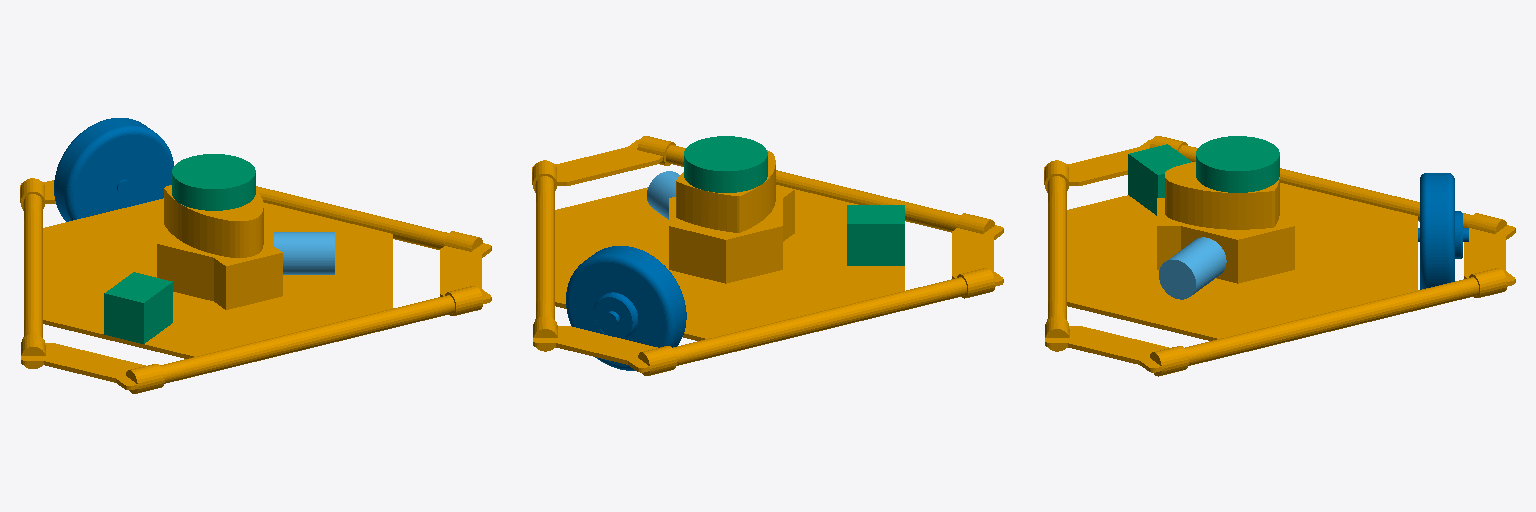
URDF robot description (Digital):
<?xml version='1.0' encoding='utf-8'?>
<robot name="Digital">
    <!-- BASE FRAMES AND LINKS -->

    <!-- Base link -->
    <link name="BaseFrame">
        <inertial>
            <origin xyz="6.220516227138173e-07 0.015720460645053943 0.003771593011300329" rpy="0.0 0.0 0.0" />
            <mass value="8.741348768419334" />
            <inertia ixx="0.05878328648875511" iyy="0.10720832008945891" izz="0.05729448458823833" ixy="8.556860355420218e-08" iyz="-0.0006208696444277885" ixz="-3.941352884719564e-06" />
        </inertial>
        <visual name="BaseFrame_visual">
            <origin xyz="0.0 0.0 0.0" rpy="0.0 0.0 0.0" />
            <geometry>
                <mesh filename="meshes/BaseFrame.stl" scale="0.001 0.001 0.001" />
            </geometry>
        </visual>
        <collision name="BaseFrame_collision">
            <origin xyz="0.0 0.0 0.0" rpy="0.0 0.0 0.0" />
            <geometry>
                <mesh filename="meshes/BaseFrame.stl" scale="0.001 0.001 0.001" />
            </geometry>
        </collision>
    </link>
    
    <!-- WHEEL SETS -->
    <!-- Wheel 1 -->
    <link name="Wheel1">
        <inertial>
            <origin xyz="-7.182858308141247e-10 1.5543122344752193e-17 0.017147542624793656" rpy="0.0 5.551115123125783e-17 0.0" />
            <mass value="2.006420398400055" />
            <inertia ixx="0.001469647893885064" iyy="0.001469647893808726" izz="0.0026279102091307425" ixy="1.6185190373569832e-18" iyz="1.0686337297429578e-18" ixz="4.96564594998361e-17" />
        </inertial>
        <visual name="Wheel1_visual">
            <origin xyz="-7.18276149792724e-10 0.01905 -0.15028798124409087" rpy="3.141592653589793 1.1102230246251568e-16 0.0" />
            <geometry>
                <mesh filename="meshes/Wheel1.stl" scale="0.001 0.001 0.001" />
            </geometry>
        </visual>
        <collision name="Wheel1_collision">
            <origin xyz="-7.18276149792724e-10 0.01905 -0.15028798124409087" rpy="3.141592653589793 1.1102230246251568e-16 0.0" />
            <geometry>
                <mesh filename="meshes/Wheel1.stl" scale="0.001 0.001 0.001" />
            </geometry>
        </collision>
    </link>
    <link name="Gearbox1">
        <inertial>
            <origin xyz="7.182758210433349e-10 0.01905 -0.024499996718548064" rpy="0.0 -0.0 0.0" />
            <mass value="0.5583617865000003" />
            <inertia ixx="0.00017926251685731348" iyy="0.00017926251685731337" izz="0.00013508725881687786" ixy="-2.168404344971005e-19" iyz="3.755786496842899e-19" ixz="-3.5236570605778894e-19" />
        </inertial>
        <visual name="Gearbox1_visual">
            <origin xyz="7.182761496693502e-10 0.0 -0.15028798124409085" rpy="0.0 1.047197551196598 0.0" />
            <geometry>
                <mesh filename="meshes/Gearbox1.stl" scale="0.001 0.001 0.001" />
            </geometry>
        </visual>
        <collision name="Gearbox1_collision">
            <origin xyz="7.182761496693502e-10 0.0 -0.15028798124409085" rpy="0.0 1.047197551196598 0.0" />
            <geometry>
                <mesh filename="meshes/Gearbox1.stl" scale="0.001 0.001 0.001" />
            </geometry>
        </collision>
    </link>
    <link name="Motor1">
        <inertial>
            <origin xyz="-3.110994586386084e-09 -6.661338147750939e-18 0.025500000862858557" rpy="0.0 -5.551115123125784e-17 0.0" />
            <mass value="0.4075066645121547" />
            <inertia ixx="0.000121335109358496" iyy="0.00012133510935849337" izz="6.60160796509679e-05" ixy="3.2421776383058307e-20" iyz="2.691044877785578e-19" ixz="-2.371692252312041e-19" />
        </inertial>
        <visual name="Motor1_visual">
            <origin xyz="-3.110994901689423e-09 -0.01905 0.10128798538840127" rpy="3.141592653589793 -1.0471975511965979 3.141592653589793" />
            <geometry>
                <mesh filename="meshes/Motor1.stl" scale="0.001 0.001 0.001" />
            </geometry>
        </visual>
        <collision name="Motor1_collision">
            <origin xyz="-3.110994901689423e-09 -0.01905 0.10128798538840127" rpy="3.141592653589793 -1.0471975511965979 3.141592653589793" />
            <geometry>
                <mesh filename="meshes/Motor1.stl" scale="0.001 0.001 0.001" />
            </geometry>
        </collision>
    </link>
    
    <!-- Wheel 2 -->
    <link name="Wheel2">
        <inertial>
            <origin xyz="0.014850208602966947 1.5543122344752193e-17 -0.008573771934433863" rpy="0.0 5.551115123125783e-17 0.0" />
            <mass value="2.006420398400055" />
            <inertia ixx="0.002338344630319266" iyy="0.001469647893808726" izz="0.0017592134726965368" ixy="-2.9559169481946623e-21" iyz="-1.739843274314035e-18" ixz="-0.0005015422946244938" />
        </inertial>
        <visual name="Wheel2_visual">
            <origin xyz="-0.13015320856344764 0.01905 0.07514398999999997" rpy="0.0 1.0471975511965979 3.141592653589793" />
            <geometry>
                <mesh filename="meshes/Wheel2.stl" scale="0.001 0.001 0.001" />
            </geometry>
        </visual>
        <collision name="Wheel2_collision">
            <origin xyz="-0.13015320856344764 0.01905 0.07514398999999997" rpy="0.0 1.0471975511965979 3.141592653589793" />
            <geometry>
                <mesh filename="meshes/Wheel2.stl" scale="0.001 0.001 0.001" />
            </geometry>
        </collision>
    </link>
    <link name="Gearbox2">
        <inertial>
            <origin xyz="-4.174438572590589e-16 0.01905 -0.024499995474457244" rpy="0.0 -0.0 0.0" />
            <mass value="0.5583617865000003" />
            <inertia ixx="0.00017926251685731337" iyy="0.0001792625168573151" izz="0.00013508725881687745" ixy="-8.818923851428391e-20" iyz="2.168404344971009e-19" ixz="-4.205051283485158e-19" />
        </inertial>
        <visual name="Gearbox2_visual">
            <origin xyz="0.0 0.0 -0.15028798000000002" rpy="0.0 1.0471975511965974 0.0" />
            <geometry>
                <mesh filename="meshes/Gearbox2.stl" scale="0.001 0.001 0.001" />
            </geometry>
        </visual>
        <collision name="Gearbox2_collision">
            <origin xyz="0.0 0.0 -0.15028798000000002" rpy="0.0 1.0471975511965974 0.0" />
            <geometry>
                <mesh filename="meshes/Gearbox2.stl" scale="0.001 0.001 0.001" />
            </geometry>
        </collision>
    </link>
    <link name="Motor2">
        <inertial>
            <origin xyz="-0.022083643877268404 -6.661338147750939e-18 -0.012749997737228309" rpy="0.0 -5.551115123125784e-17 0.0" />
            <mass value="0.4075066645121547" />
            <inertia ixx="7.984583707784952e-05" iyy="0.00012133510935849337" izz="0.00010750535193161393" ixy="-2.86329525777864e-19" iyz="-1.5458401713693968e-19" ixz="-2.395384251971233e-05" />
        </inertial>
        <visual name="Motor2_visual">
            <origin xyz="-0.08771796377801014 -0.01905 -0.05064398999999997" rpy="3.141592653589793 1.047197551196598 3.141592653589793" />
            <geometry>
                <mesh filename="meshes/Motor2.stl" scale="0.001 0.001 0.001" />
            </geometry>
        </visual>
        <collision name="Motor2_collision">
            <origin xyz="-0.08771796377801014 -0.01905 -0.05064398999999997" rpy="3.141592653589793 1.047197551196598 3.141592653589793" />
            <geometry>
                <mesh filename="meshes/Motor2.stl" scale="0.001 0.001 0.001" />
            </geometry>
        </collision>
    </link>
    
    <!-- Wheel 3 -->
    <link name="Wheel3">
        <inertial>
            <origin xyz="-0.014850207884681126 1.7763568394002505e-17 -0.008573770690359766" rpy="0.0 -5.5511151231257815e-17 0.0" />
            <mass value="2.006420398400055" />
            <inertia ixx="0.0023383446303193644" iyy="0.0014696478938087051" izz="0.0017592134726964349" ixy="-1.0686337297429578e-18" iyz="1.618519037356983e-18" ixz="0.0005015422946244375" />
        </inertial>
        <visual name="Wheel3_visual">
            <origin xyz="0.13015320928172383 0.019050000000000004 0.07514399124409088" rpy="0.0 -1.047197551196598 3.141592653589793" />
            <geometry>
                <mesh filename="meshes/Wheel3.stl" scale="0.001 0.001 0.001" />
            </geometry>
        </visual>
        <collision name="Wheel3_collision">
            <origin xyz="0.13015320928172383 0.019050000000000004 0.07514399124409088" rpy="0.0 -1.047197551196598 3.141592653589793" />
            <geometry>
                <mesh filename="meshes/Wheel3.stl" scale="0.001 0.001 0.001" />
            </geometry>
        </collision>
    </link>
    <link name="Gearbox3">
        <inertial>
            <origin xyz="-7.182765937585601e-10 0.01905 -0.02449999671854808" rpy="0.0 -0.0 0.0" />
            <mass value="0.5583617865000003" />
            <inertia ixx="0.00017926251685731535" iyy="0.00017926251685731337" izz="0.00013508725881687818" ixy="-2.671584324357392e-19" iyz="4.0462975933924594e-19" ixz="-8.809142651444724e-19" />
        </inertial>
        <visual name="Gearbox3_visual">
            <origin xyz="-7.182762562507606e-10 0.0 -0.15028798124409087" rpy="0.0 1.0471975511965979 0.0" />
            <geometry>
                <mesh filename="meshes/Gearbox3.stl" scale="0.001 0.001 0.001" />
            </geometry>
        </visual>
        <collision name="Gearbox3_collision">
            <origin xyz="-7.182762562507606e-10 0.0 -0.15028798124409087" rpy="0.0 1.0471975511965979 0.0" />
            <geometry>
                <mesh filename="meshes/Gearbox3.stl" scale="0.001 0.001 0.001" />
            </geometry>
        </collision>
    </link>
    <link name="Motor3">
        <inertial>
            <origin xyz="0.02208364698826296 -6.661338147750939e-18 -0.01275000312563022" rpy="0.0 5.551115123125783e-17 0.0" />
            <mass value="0.4075066645121547" />
            <inertia ixx="7.984583707784998e-05" iyy="0.00012133510935849294" izz="0.00010750535193161376" ixy="2.0231487966962285e-19" iyz="-1.3357921621786973e-19" ixz="2.39538425197127e-05" />
        </inertial>
        <visual name="Motor3_visual">
            <origin xyz="0.08771796688900507 -0.01905 -0.05064399538840131" rpy="0.0 5.5511151231257815e-17 0.0" />
            <geometry>
                <mesh filename="meshes/Motor3.stl" scale="0.001 0.001 0.001" />
            </geometry>
        </visual>
        <collision name="Motor3_collision">
            <origin xyz="0.08771796688900507 -0.01905 -0.05064399538840131" rpy="0.0 5.5511151231257815e-17 0.0" />
            <geometry>
                <mesh filename="meshes/Motor3.stl" scale="0.001 0.001 0.001" />
            </geometry>
        </collision>
    </link>
    
    <!-- SENSOR LINKS -->
    <!-- Original RPLiDAR Link -->
    <link name="RPLiDAR">
        <inertial>
            <origin xyz="-1.2104397782014283e-13 -1.6008232234468676e-13 0.009999999999995212" rpy="0.0 -0.0 0.0" />
            <mass value="0.6042068071017083" />
            <inertia ixx="0.00020517856157828505" iyy="0.00020517856157829546" izz="0.00037007666934979326" ixy="-8.924415590375263e-20" iyz="-3.54477833706305e-18" ixz="-2.6773249932504712e-20" />
        </inertial>
        <visual name="RPLiDAR_visual">
            <origin xyz="0.0 0.0 -0.07440000000000001" rpy="1.5707963267948966 -0.0 0.0" />
            <geometry>
                <mesh filename="meshes/RPLiDAR.stl" scale="0.001 0.001 0.001" />
            </geometry>
        </visual>
        <collision name="RPLiDAR_collision">
            <origin xyz="0.0 0.0 -0.07440000000000001" rpy="1.5707963267948966 -0.0 0.0" />
            <geometry>
                <mesh filename="meshes/RPLiDAR.stl" scale="0.001 0.001 0.001" />
            </geometry>
        </collision>
    </link>
    
    <!-- Laser Link (Required for SLAM - this is needed because your LIDAR node publishes to 'laser' frame) -->
    <link name="laser">
        <!-- A minimal representation to act as the scan source -->
        <visual>
            <geometry>
                <cylinder radius="0.0325" length="0.001"/>
            </geometry>
            <material name="red">
                <color rgba="1 0 0 1"/>
            </material>
        </visual>
    </link>
    
    <!-- IMU Link (BNO055) -->
    <link name="imu_link">
        <visual>
            <geometry>
                <box size="0.020 0.025 0.003"/>
            </geometry>
            <material name="blue">
                <color rgba="0 0 1 1"/>
            </material>
        </visual>
        <collision>
            <geometry>
                <box size="0.020 0.025 0.003"/>
            </geometry>
        </collision>
        <inertial>
            <mass value="0.002"/>
            <inertia ixx="0.00000015" ixy="0" ixz="0" iyy="0.00000015" iyz="0" izz="0.00000015"/>
        </inertial>
    </link>
    
    <!-- Add base_link for compatibility with navigation stack -->
    <link name="base_link"/>
    
    <!-- JOINT DEFINITIONS -->
    <!-- Wheel joints -->
    <joint name="Gearbox1_Rigid-1" type="fixed">
        <origin xyz="-2.392718752020073e-09 0.01905 -0.04899999585568958" rpy="3.141592653589793 -7.771561172376094e-16 3.141592653589793" />
        <parent link="Gearbox1" />
        <child link="Motor1" />
    </joint>
    <joint name="BaseFrame_Rigid-2" type="fixed">
        <origin xyz="-0.13015321 0.0 0.07514399000000001" rpy="0.0 -1.0471975511965987 0.0" />
        <parent link="BaseFrame" />
        <child link="Gearbox1" />
    </joint>
    <joint name="Gearbox2_Rigid-18" type="fixed">
        <origin xyz="0.0 0.01905 -0.049" rpy="0.0 -1.0471975511965979 0.0" />
        <parent link="Gearbox2" />
        <child link="Motor2" />
    </joint>
    <joint name="BaseFrame_Rigid-19" type="fixed">
        <origin xyz="0.0 0.0 -0.15028798000000002" rpy="3.141592653589793 9.014058568467967e-16 3.141592653589793" />
        <parent link="BaseFrame" />
        <child link="Gearbox2" />
    </joint>
    <joint name="Gearbox3_Rigid-20" type="fixed">
        <origin xyz="2.3927187164929367e-09 0.01905 -0.04899999585568958" rpy="0.0 1.047197551196598 0.0" />
        <parent link="Gearbox3" />
        <child link="Motor3" />
    </joint>
    <joint name="BaseFrame_Rigid-21" type="fixed">
        <origin xyz="0.13015321 0.0 0.07514399000000001" rpy="0.0 1.0471975511965972 0.0" />
        <parent link="BaseFrame" />
        <child link="Gearbox3" />
    </joint>
    <joint name="Gearbox1_Revolute-25" type="continuous">
        <origin xyz="0.0 0.01905 0.0" rpy="0.0 -8.326672684688672e-16 3.141592653589793" />
        <parent link="Gearbox1" />
        <child link="Wheel1" />
        <axis xyz="-2.0189221949795666e-07 0.0 0.9999996503124187" />
    </joint>
    <joint name="Gearbox2_Revolute-26" type="continuous">
        <origin xyz="0.0 0.01905 0.0" rpy="3.141592653589793 -1.0471975511965976 0.0" />
        <parent link="Gearbox2" />
        <child link="Wheel2" />
        <axis xyz="0.8660254037844388 0.0 -0.4999999999999999" />
    </joint>
    <joint name="Gearbox3_Revolute-27" type="continuous">
        <origin xyz="0.0 0.01905 0.0" rpy="3.141592653589793 1.047197551196598 0.0" />
        <parent link="Gearbox3" />
        <child link="Wheel3" />
        <axis xyz="-0.8660252018922192 0.0 -0.49999965031241866" />
    </joint>
    <joint name="BaseFrame_Rigid-28" type="fixed">
        <origin xyz="0.0 0.07440000000000001 0.0" rpy="-1.5707963267948966 -0.0 0.0" />
        <parent link="BaseFrame" />
        <child link="RPLiDAR" />
    </joint>
    
    <!-- New joints for SLAM compatibility -->
    <!-- Connect base_link to BaseFrame -->
    <joint name="base_to_baseframe" type="fixed">
        <parent link="base_link"/>
        <child link="BaseFrame"/>
        <origin xyz="0 0 0" rpy="1.5707963267948966 0 0"/>
    </joint>
    
    <!-- Connect RPLiDAR to laser frame (needed because SLAM expects 'laser' frame) -->
    <joint name="rplidar_to_laser" type="fixed">
        <parent link="RPLiDAR"/>
        <child link="laser"/>
        <origin xyz="0 0 0" rpy="0 0 0"/>
    </joint>
    
    <!-- Connect IMU link to the base -->
    <joint name="base_to_imu" type="fixed">
        <parent link="BaseFrame"/>
        <child link="imu_link"/>
        <origin xyz="0 0.03 0" rpy="0 0 0"/>
    </joint>
</robot>

--- Facts derived from the render (not from the file) ---
3 views of the same robot in one strip: view 1: azimuth 30°, elevation 25°; view 2: azimuth 150°, elevation 25°; view 3: azimuth 270°, elevation 25° (orthographic).
Robot: Digital — 14 links, 13 joints (3 continuous, 10 fixed); root link base_link; default pose: all joints at 0.
Visible links, largest first — view 1: BaseFrame, Wheel2, RPLiDAR, Gearbox1, Motor3; view 2: BaseFrame, Wheel2, RPLiDAR, Gearbox1, Motor3; view 3: BaseFrame, Wheel2, RPLiDAR, Motor3, Gearbox1.
Link boxes in pixels (x1,y1,x2,y2): BaseFrame: (20, 178, 491, 393); Wheel2: (54, 118, 173, 221); RPLiDAR: (172, 154, 255, 210); Gearbox1: (104, 272, 172, 343); Motor3: (274, 232, 334, 274); BaseFrame: (532, 136, 1003, 375); Wheel2: (566, 246, 686, 370); RPLiDAR: (684, 136, 767, 192); Gearbox1: (847, 205, 904, 265); Motor3: (647, 171, 679, 219); BaseFrame: (1044, 136, 1515, 376); Wheel2: (1418, 173, 1468, 289); RPLiDAR: (1196, 136, 1279, 192); Motor3: (1159, 237, 1226, 299); Gearbox1: (1128, 144, 1191, 215).
Bounding box of the posed robot: 0.4535 × 0.3942 × 0.1278 m (x, y, z).
Meshes: 11 distinct files referenced, 5 mesh visuals loaded (5 binary STL); not drawn: 6 (reference not matched to a file when rendering).